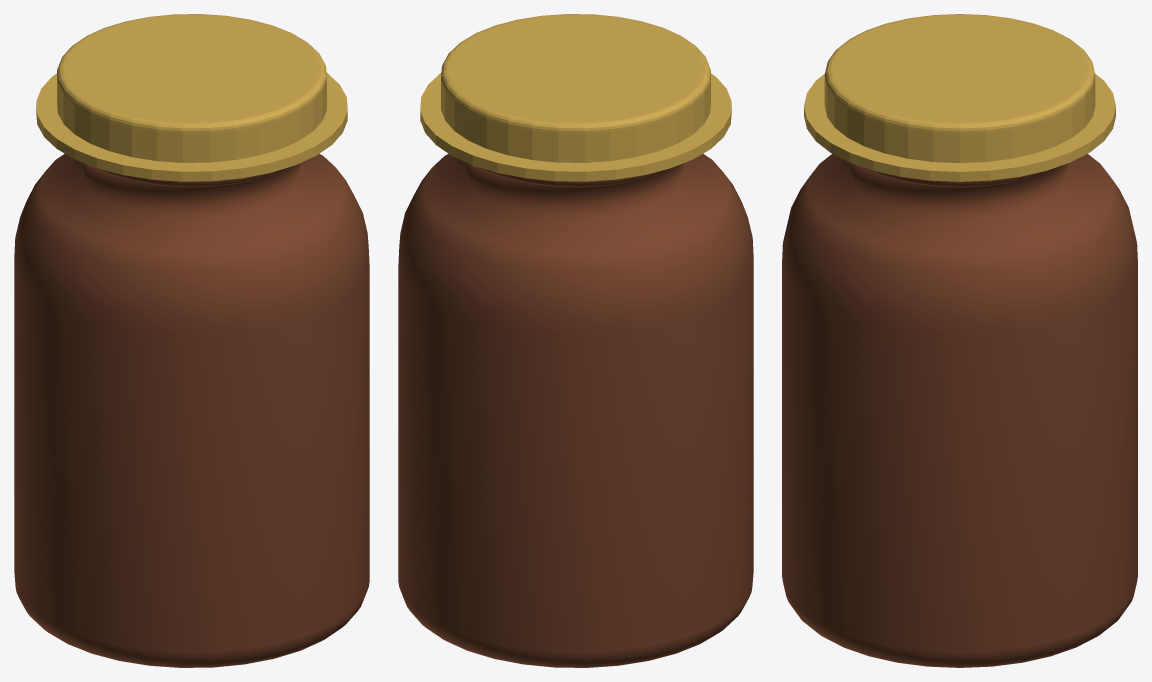
The model's file is 薬瓶_ラベルなし.fbx.
3 views of the same model, side by side, from view 1: azimuth 30°, elevation 25°; view 2: azimuth 150°, elevation 25°; view 3: azimuth 270°, elevation 25° (orthographic).
Visible parts, largest first — view 1: 円, 円.001; view 2: 円, 円.001; view 3: 円, 円.001.
Boxes of the visible parts, x1,y1,x2,y2 form: 円: (14, 153, 369, 667); 円.001: (36, 14, 347, 181); 円: (398, 153, 753, 667); 円.001: (420, 14, 731, 181); 円: (782, 153, 1137, 667); 円.001: (804, 14, 1115, 181).
Bounding box in the file's own units: 217 × 356 × 217.
